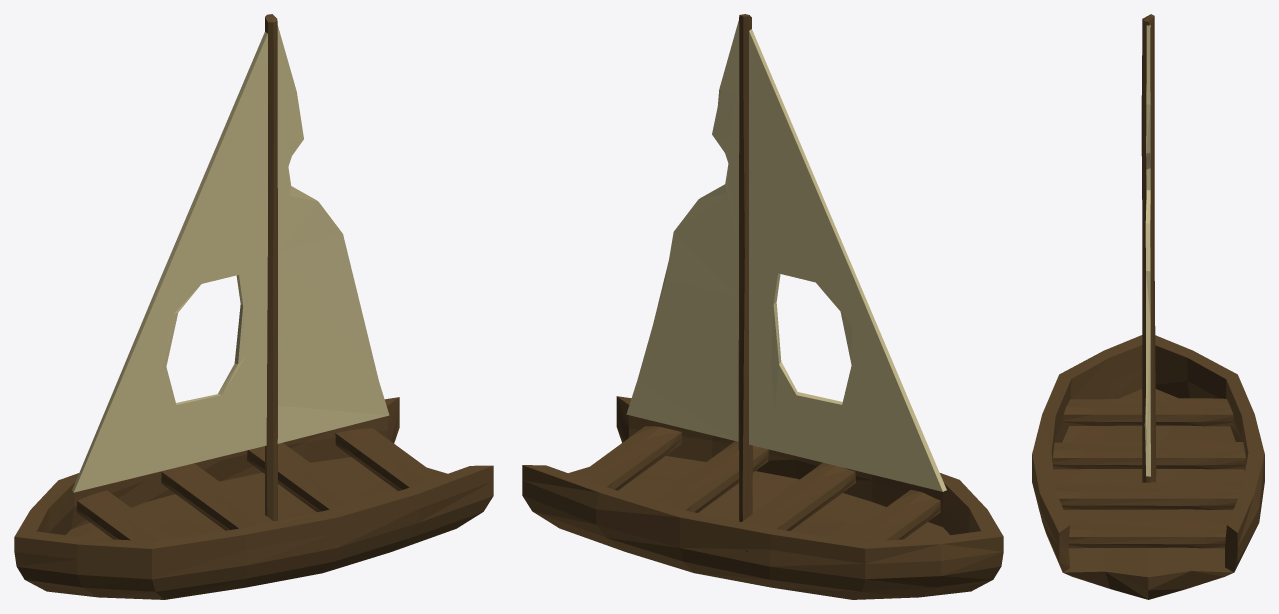
The model's file is Segelboot kaputt.fbx.
3 views of the same model, side by side, from view 1: azimuth 30°, elevation 25°; view 2: azimuth 150°, elevation 25°; view 3: azimuth 270°, elevation 25° (orthographic). The views are drawn at different scales.
Parts seen in each view (by area): view 1: Stiel, Boot, Sitz_I, Sitz_I_2, Sitz_I_1, Sitz_I_2_2; view 2: Stiel, Boot, Sitz_I, Sitz_I_2, Sitz_I_1, Sitz_I_2_2; view 3: Boot, Stiel, Sitz_I_1, Sitz_I, Sitz_I_2, Sitz_I_2_2.
Boxes of the visible parts, x1=… form: Stiel: x1=72, y1=14, x2=389, y2=521; Boot: x1=14, y1=397, x2=493, y2=599; Sitz_I: x1=161, y1=463, x2=273, y2=530; Sitz_I_2: x1=335, y1=428, x2=438, y2=490; Sitz_I_1: x1=247, y1=442, x2=361, y2=512; Sitz_I_2_2: x1=76, y1=490, x2=172, y2=541; Stiel: x1=626, y1=14, x2=946, y2=521; Boot: x1=522, y1=396, x2=1003, y2=599; Sitz_I: x1=742, y1=463, x2=855, y2=552; Sitz_I_2: x1=577, y1=426, x2=681, y2=490; Sitz_I_1: x1=654, y1=441, x2=768, y2=512; Sitz_I_2_2: x1=843, y1=490, x2=940, y2=541; Boot: x1=1032, y1=335, x2=1264, y2=599; Stiel: x1=1141, y1=14, x2=1156, y2=482; Sitz_I_1: x1=1054, y1=482, x2=1242, y2=509; Sitz_I: x1=1052, y1=441, x2=1245, y2=469; Sitz_I_2: x1=1068, y1=520, x2=1228, y2=548; Sitz_I_2_2: x1=1063, y1=398, x2=1234, y2=426.
Size of the model in its own units: 1455 by 1693 by 705.
